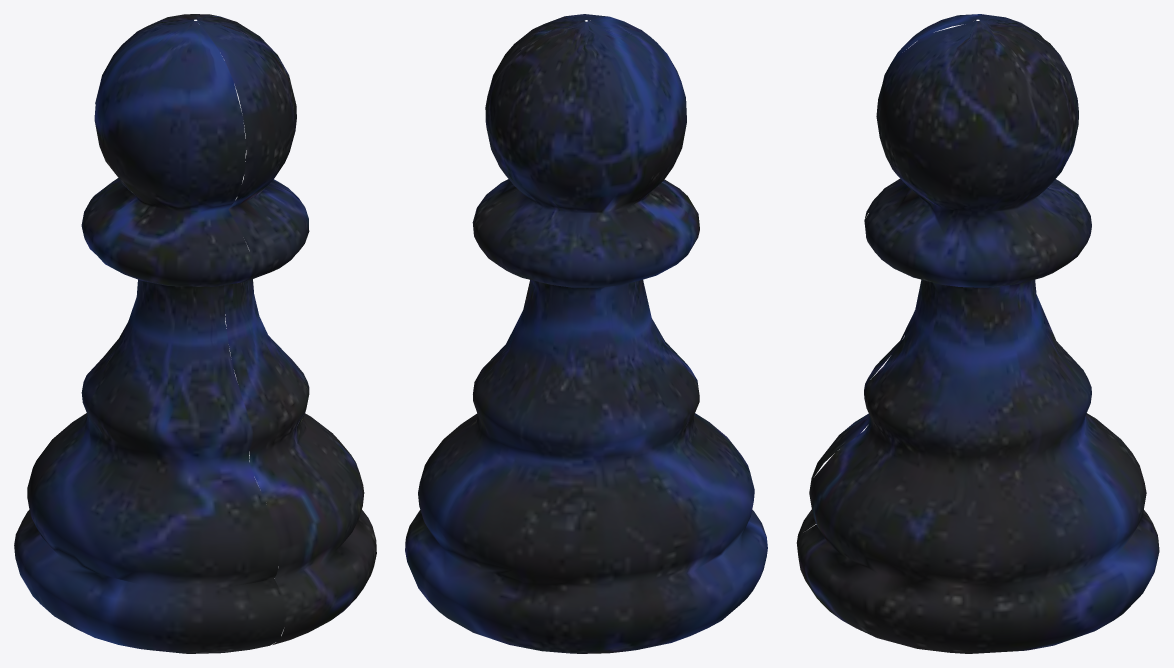
File: cobalt_vein_black_pawn.glb
3 renders of one model, left to right at view 1: azimuth 30°, elevation 25°; view 2: azimuth 150°, elevation 25°; view 3: azimuth 270°, elevation 25°, orthographic.
Parts seen in each view (by area): view 1: Cobalt Vein black pawn; view 2: Cobalt Vein black pawn; view 3: Cobalt Vein black pawn.
Boxes of the visible parts, x1,y1,x2,y2 form: Cobalt Vein black pawn: [14, 14, 376, 653]; Cobalt Vein black pawn: [405, 14, 767, 653]; Cobalt Vein black pawn: [796, 14, 1159, 653].
Bounding box in the file's own units: 0.03 × 0.0524 × 0.03.
Materials: 1 (1 with a texture image).
